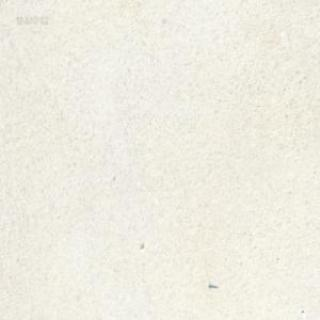Nailtrack_idkeyframe: (207, 280, 217, 288)
